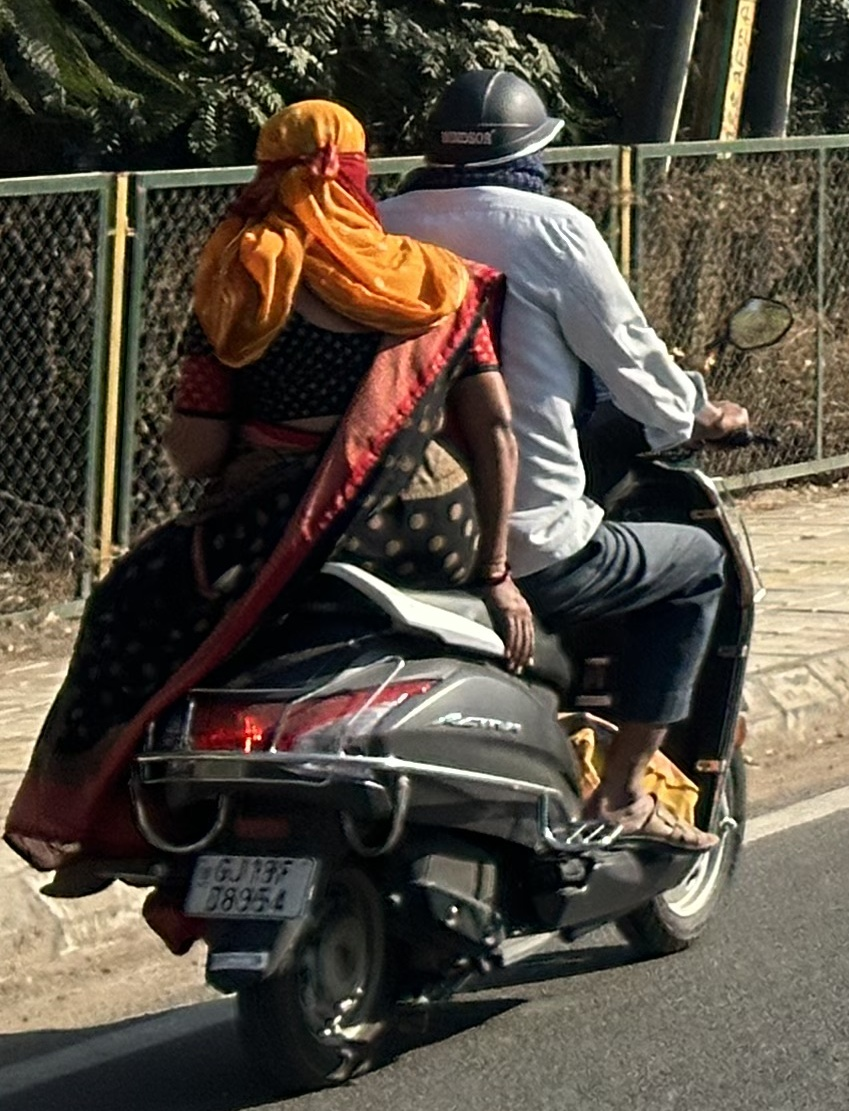BikeWithRider: (9, 62, 794, 1074)
Helmet: (420, 65, 568, 205)
NoHelmet: (242, 96, 395, 244)
